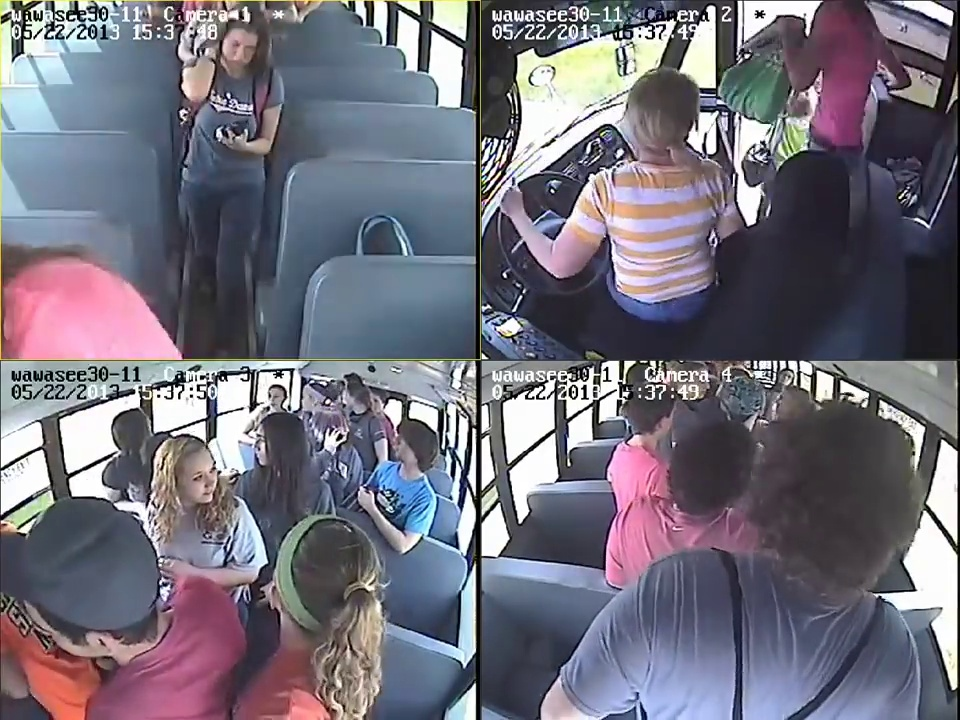face: (168, 448, 218, 509), (244, 417, 286, 478), (218, 24, 256, 74), (387, 428, 426, 464)
